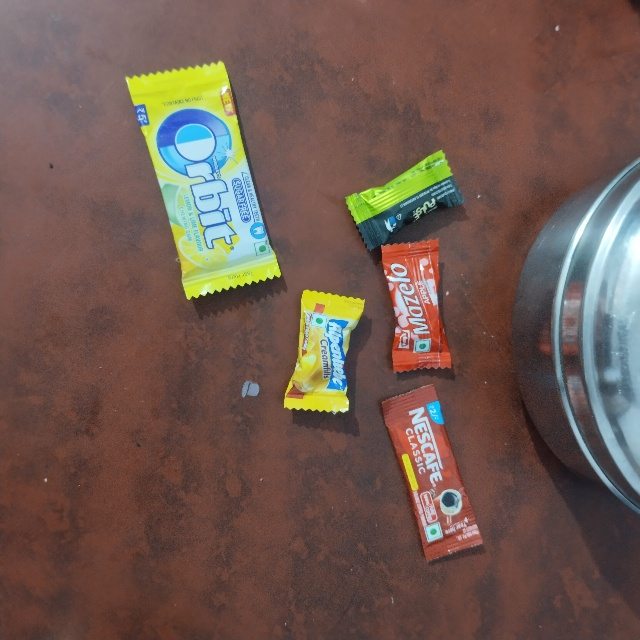Alpenlibe Creamfills: (299, 284, 366, 414)
Mazelo: (377, 244, 447, 372)
Nescafe Coffee: (374, 406, 436, 572)
Orbit: (124, 82, 228, 311)
Pulse: (339, 200, 453, 261)
